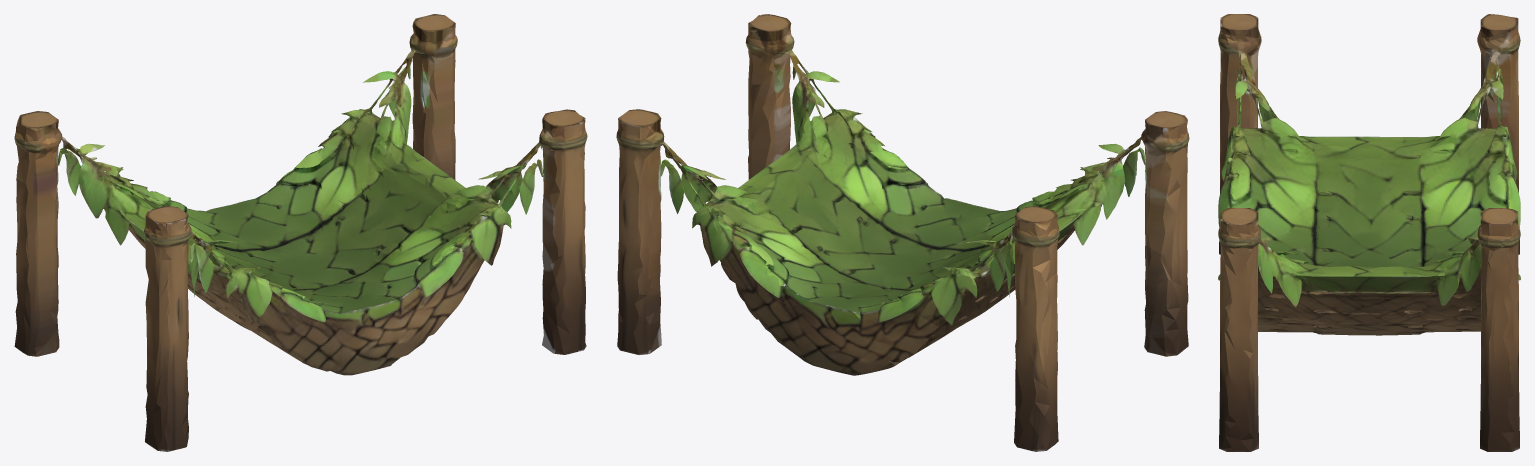
File: Furn_SprigHammock.glb
The picture shows the model from 3 angles, left to right: view 1: azimuth 30°, elevation 25°; view 2: azimuth 150°, elevation 25°; view 3: azimuth 270°, elevation 25°; orthographic projection.
Visible parts, largest first — view 1: Furn_SprigHammock; view 2: Furn_SprigHammock; view 3: Furn_SprigHammock.
Boxes of the visible parts, <box> form: Furn_SprigHammock: <box>14,14,587,451</box>; Furn_SprigHammock: <box>616,14,1189,451</box>; Furn_SprigHammock: <box>1218,14,1520,451</box>.
Size of the model in its own units: 1.41 by 0.7 by 0.8429.
Materials: 1 (1 with a texture image).
